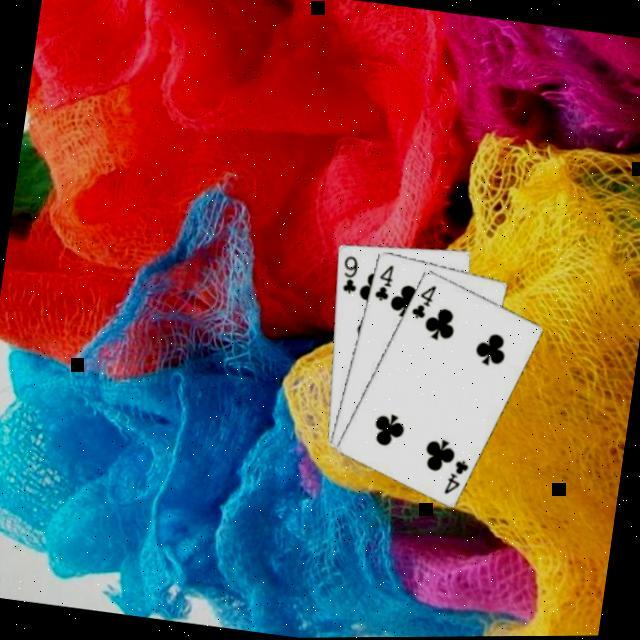4C: (439, 456, 472, 501), (406, 281, 438, 324), (370, 261, 396, 306)
9C: (334, 252, 362, 299)
